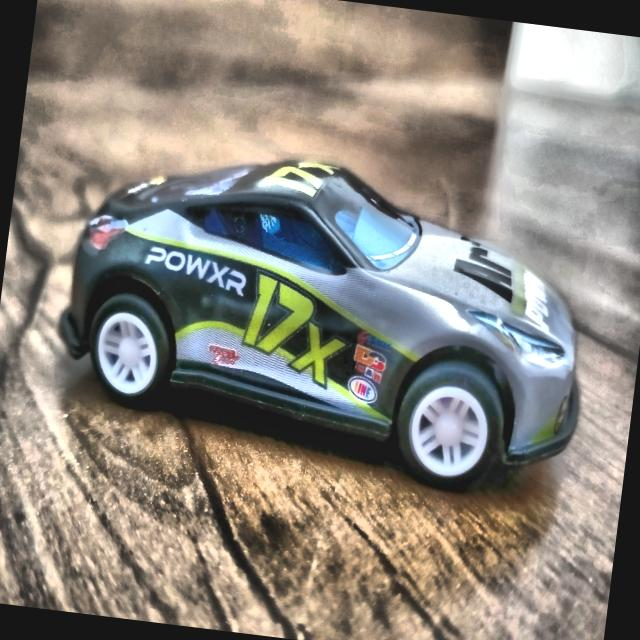Car: (44, 132, 616, 504)
